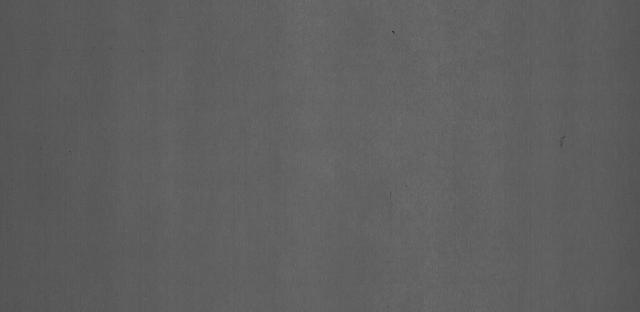inclusion: (554, 130, 578, 155), (383, 22, 408, 46)
